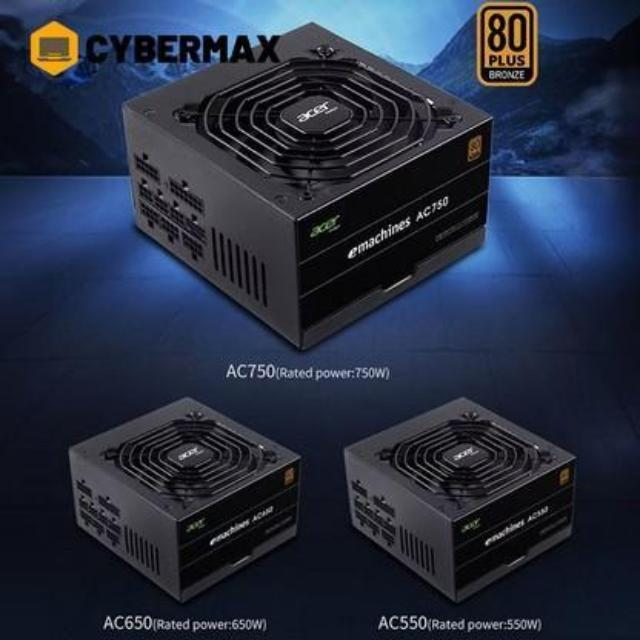PSU: (116, 15, 504, 353), (62, 388, 308, 608), (342, 388, 588, 603)
